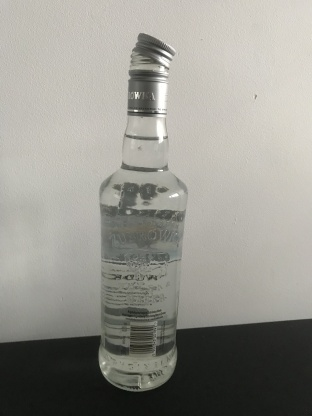nakretka: (125, 30, 177, 118)
